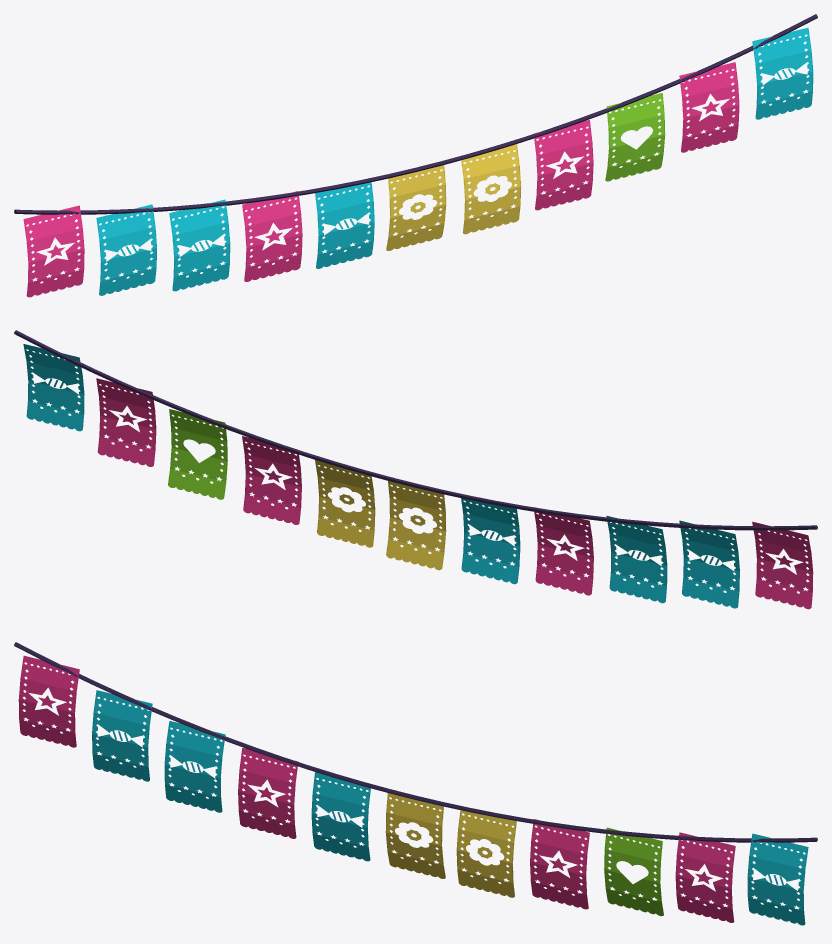
The model's file is lobby_papel_garland.obj.
The picture shows the model from 3 angles, top to bottom: view 1: azimuth 30°, elevation 25°; view 2: azimuth 150°, elevation 25°; view 3: azimuth 330°, elevation 25°; orthographic projection.
Parts seen in each view (by area): view 1: lobby_papel_garland_Flags, lobby_papel_garland; view 2: lobby_papel_garland_Flags, lobby_papel_garland; view 3: lobby_papel_garland_Flags, lobby_papel_garland.
Part boxes in pixels (x1,y1,x2,y2): lobby_papel_garland_Flags: [23, 28, 813, 297]; lobby_papel_garland: [14, 14, 817, 214]; lobby_papel_garland_Flags: [23, 344, 813, 609]; lobby_papel_garland: [14, 330, 817, 530]; lobby_papel_garland_Flags: [18, 655, 808, 925]; lobby_papel_garland: [14, 642, 817, 842].
Size of the model in its own units: 24.03 by 3.96 by 0.3966.
Materials: 2 (2 with a texture image).
